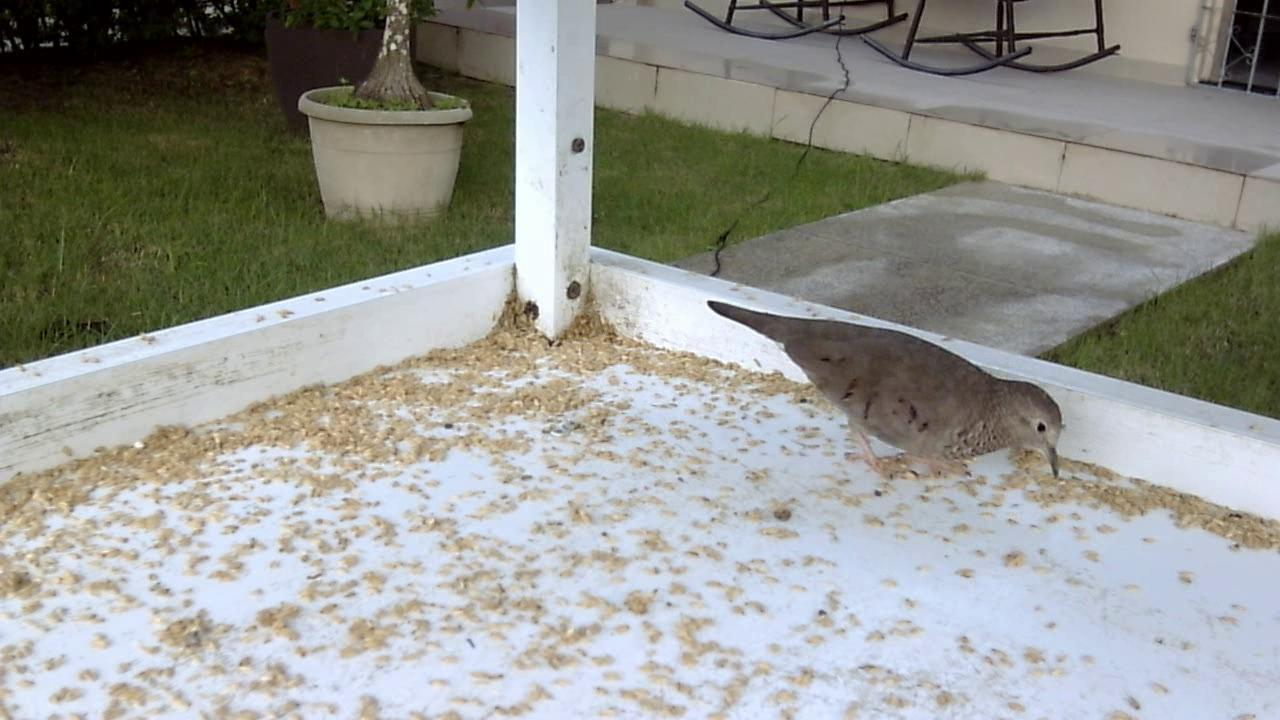rolinha: (684, 286, 1078, 491)
